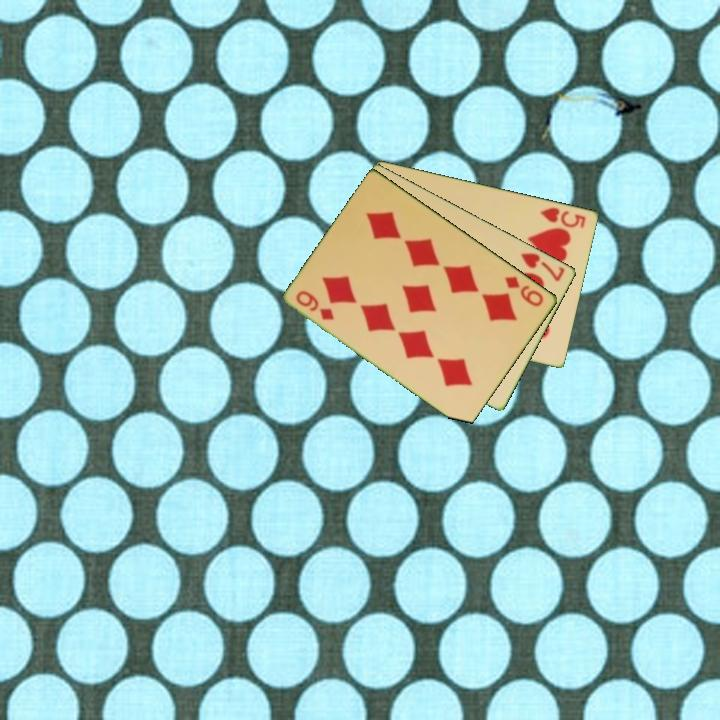5h: (537, 204, 589, 231)
7h: (518, 249, 568, 285)
9d: (501, 272, 547, 310), (293, 287, 337, 323)
